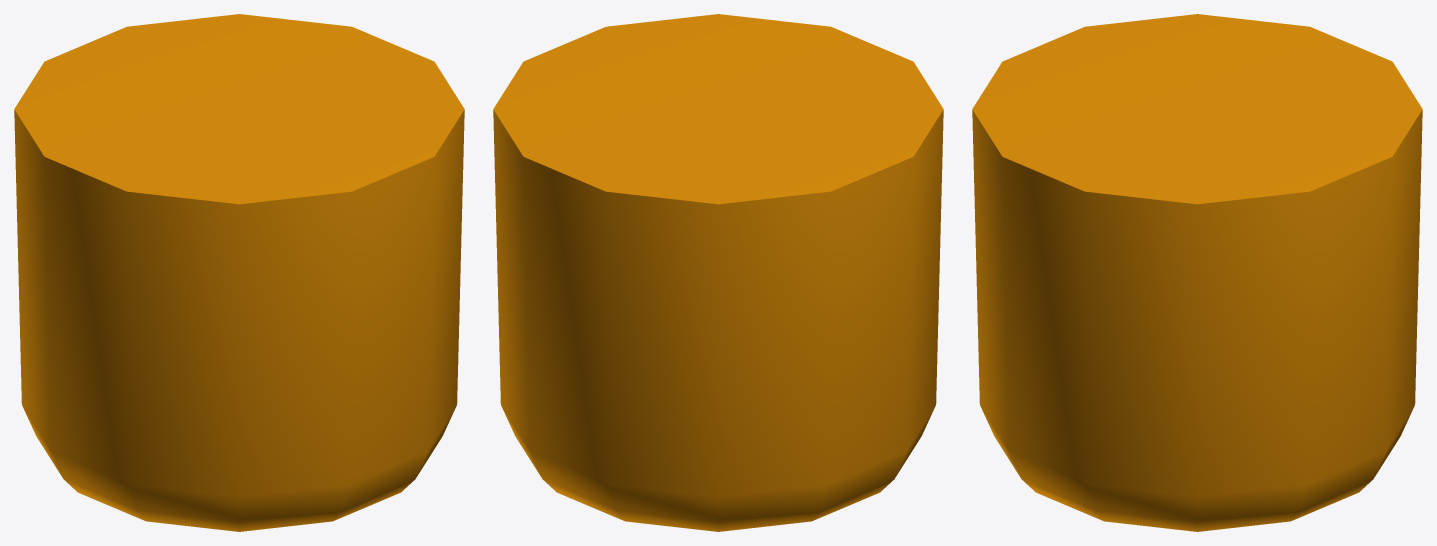
File: Cup-ThickCup_Liquid.fbx
3 views of the same model, side by side, from view 1: azimuth 30°, elevation 25°; view 2: azimuth 150°, elevation 25°; view 3: azimuth 270°, elevation 25° (orthographic).
Visible parts, largest first — view 1: Cup-ThickCup_Liquid; view 2: Cup-ThickCup_Liquid; view 3: Cup-ThickCup_Liquid.
Part boxes in pixels (x1,y1,x2,y2): Cup-ThickCup_Liquid: (14, 14, 464, 531); Cup-ThickCup_Liquid: (493, 14, 943, 531); Cup-ThickCup_Liquid: (972, 14, 1422, 531).
Bounding box in the file's own units: 467 × 408 × 467.
